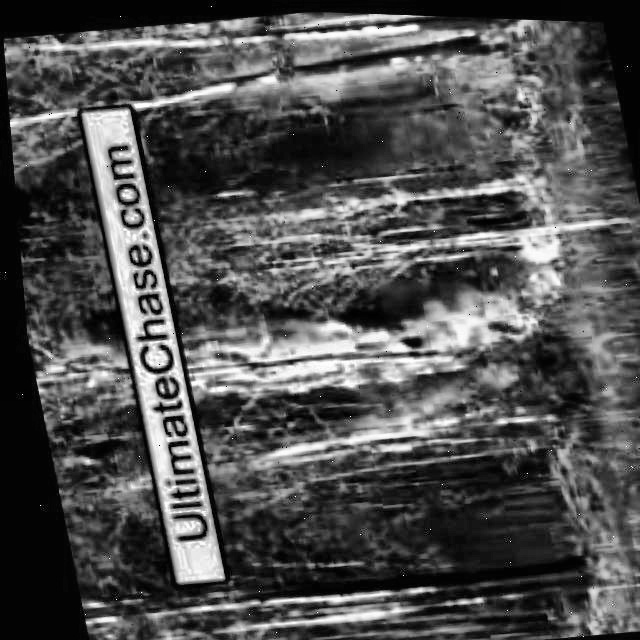Fire: (182, 301, 439, 402), (419, 212, 577, 369), (29, 337, 119, 392)
